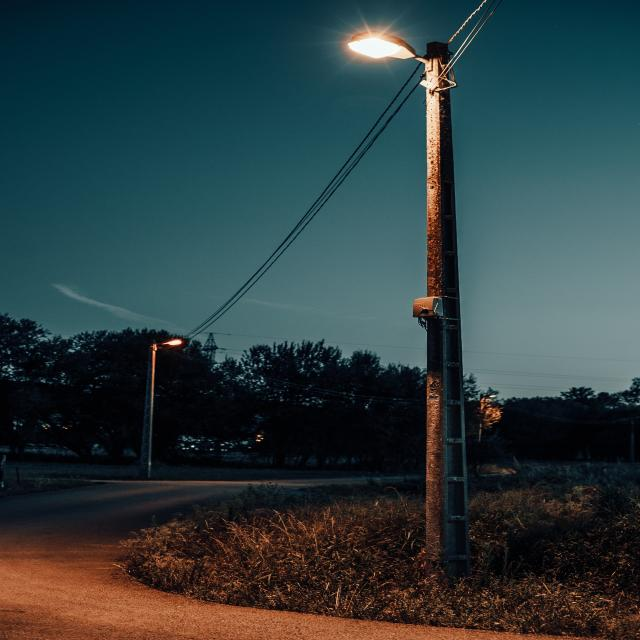Street Light: (342, 34, 474, 572), (150, 340, 187, 476)
